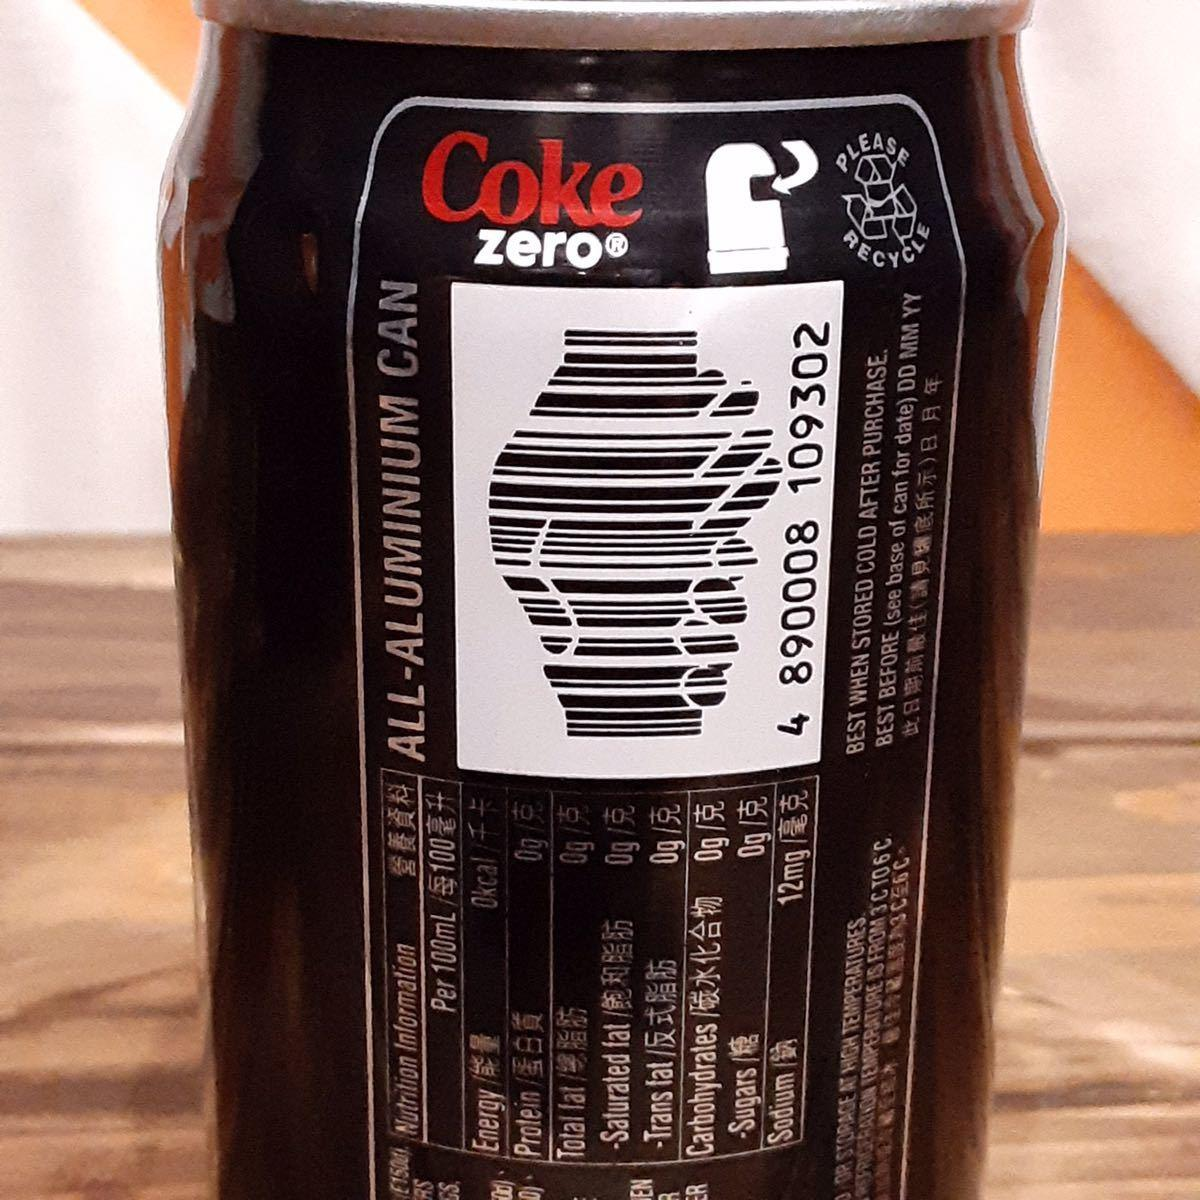metal: (134, 0, 1078, 1200)
